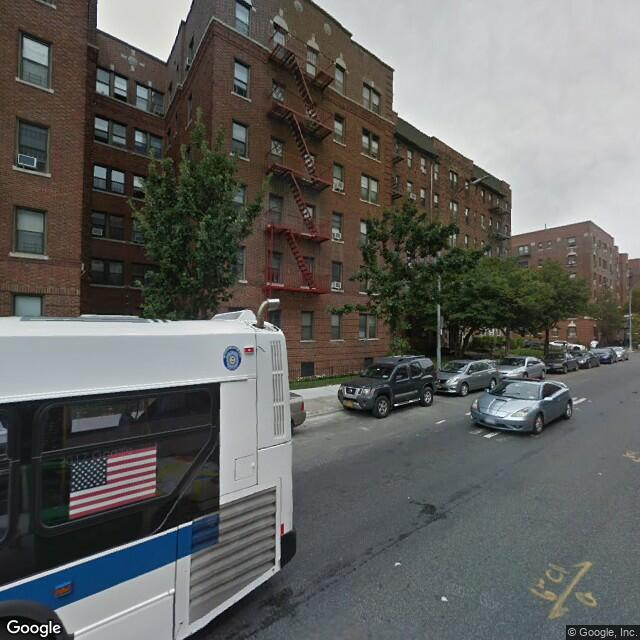litter: (439, 592, 448, 604), (394, 560, 401, 568), (595, 470, 601, 476)
